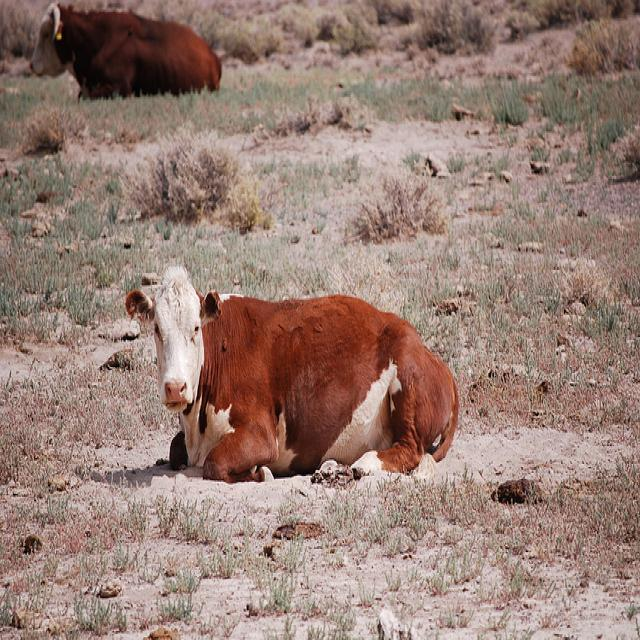cow: (121, 264, 460, 489), (27, 0, 222, 103)
